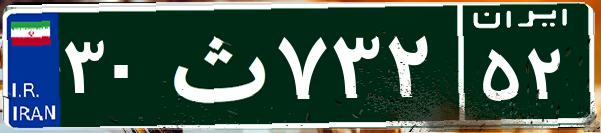0: (110, 28, 158, 105)
2: (385, 28, 445, 110), (525, 38, 570, 115)
3: (330, 28, 385, 110), (57, 26, 110, 107)
5: (475, 38, 525, 113)
7: (273, 28, 330, 110)
ث: (158, 15, 273, 115)
